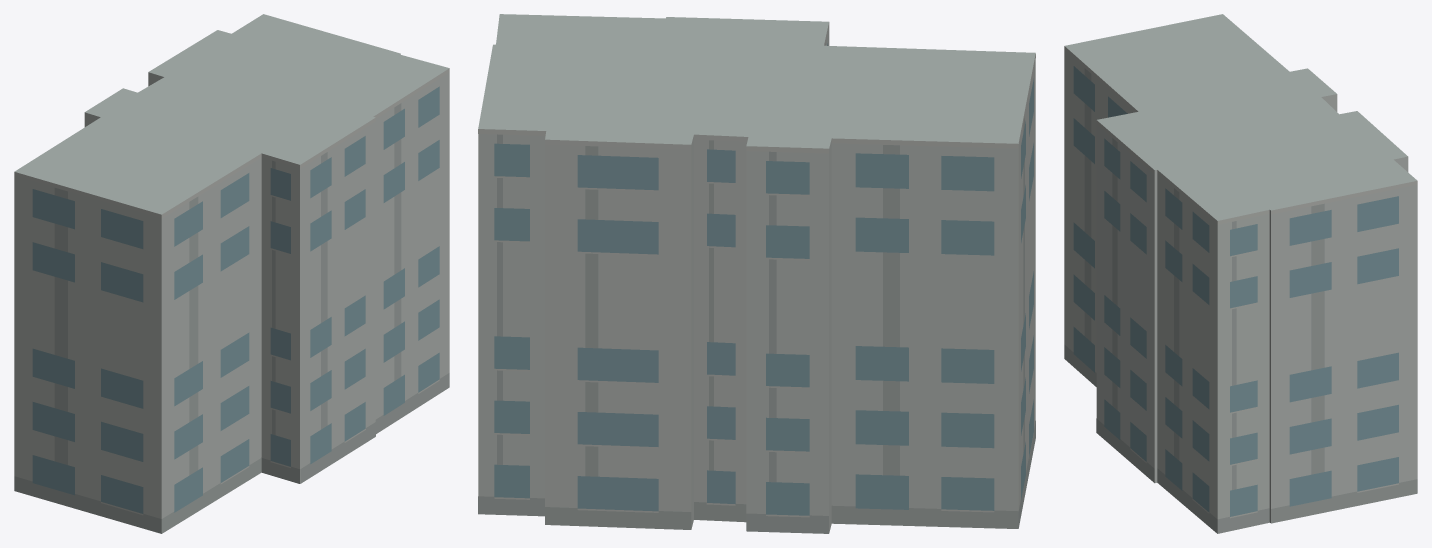
Rendered from survey-upis-32834388.glb.
The picture shows the model from 3 angles, left to right: view 1: azimuth 30°, elevation 25°; view 2: azimuth 150°, elevation 25°; view 3: azimuth 270°, elevation 25°; orthographic projection. The views are drawn at different scales.
Visible parts, largest first — view 1: survey-upis-32834388.tmp; view 2: survey-upis-32834388.tmp; view 3: survey-upis-32834388.tmp.
Boxes of the visible parts, x1,y1,x2,y2 form: survey-upis-32834388.tmp: (14,14,449,533); survey-upis-32834388.tmp: (478,14,1035,533); survey-upis-32834388.tmp: (1064,14,1417,533).
Bounding box in the file's own units: 26.96 × 19 × 19.45.
